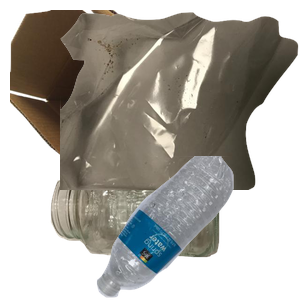cardboard: (10, 10, 218, 190)
glass: (48, 156, 260, 300)
plastic: (94, 156, 300, 300)
trash: (60, 10, 300, 190)
